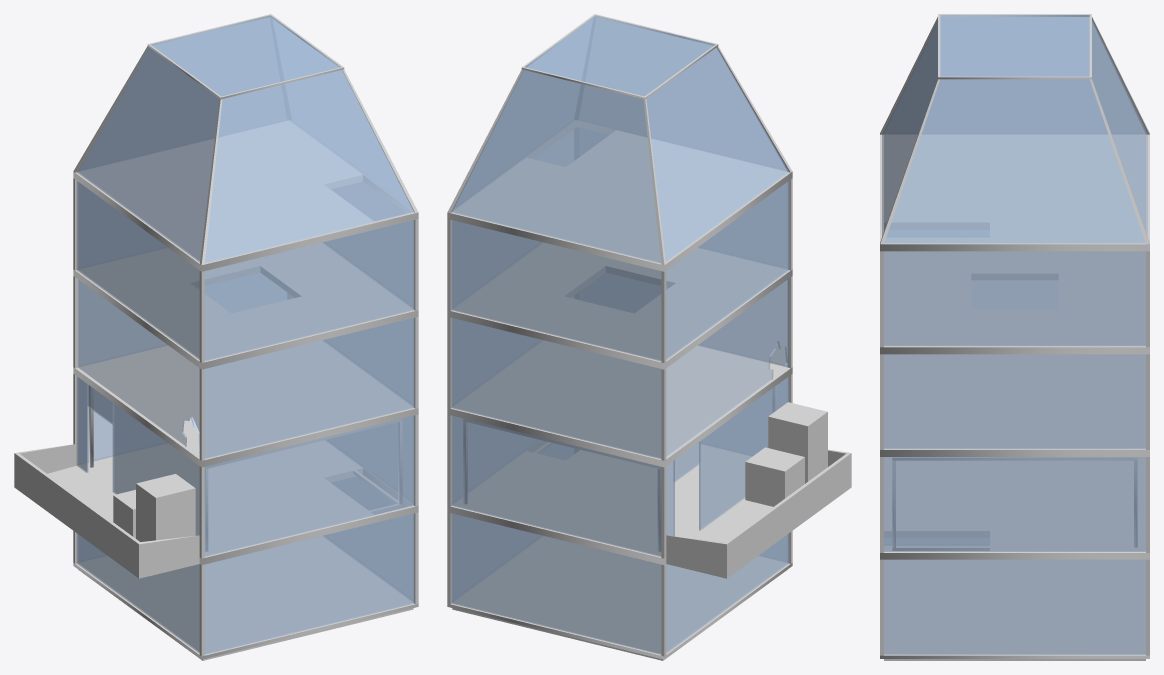
File: TestMap.fbx
The picture shows the model from 3 angles, left to right: view 1: azimuth 30°, elevation 25°; view 2: azimuth 150°, elevation 25°; view 3: azimuth 270°, elevation 25°; orthographic projection. The views are drawn at different scales.
Parts seen in each view (by area): view 1: Glass005, Glass003, Glass004, Glass002, Glass001, Box082, Box068, Box087, Box081, Box066, Box083, sddd (+8 smaller); view 2: Glass005, Glass003, Glass004, Glass002, Glass001, Box082, Box068, Box087, Box081, Box066, sddd, Box083 (+8 smaller); view 3: Glass005, Box082, Glass001, Glass004, Box087, Glass003, Glass002, Box068, Box081, Box066, sddd, box004 (+5 smaller).
Boxes of the visible parts, box(x1,y1,x2,y2) form: Glass005: box(77, 17, 414, 263); Glass003: box(78, 273, 414, 458); Glass004: box(76, 181, 414, 361); Glass002: box(76, 376, 414, 556); Glass001: box(76, 477, 414, 654); Box082: box(79, 121, 373, 262); Box068: box(79, 340, 412, 457); Box087: box(79, 536, 413, 660); Box081: box(79, 243, 412, 359); Box066: box(79, 440, 373, 555); Box083: box(14, 444, 199, 578); sddd: box(150, 15, 340, 96); Glass005: box(451, 17, 788, 263); Glass003: box(451, 273, 789, 458); Glass004: box(451, 128, 789, 361); Glass002: box(451, 376, 789, 556); Glass001: box(451, 444, 789, 654); Box082: box(453, 130, 786, 262); Box068: box(453, 340, 787, 457); Box087: box(452, 536, 786, 660); Box081: box(453, 243, 786, 359); Box066: box(453, 443, 750, 555); sddd: box(525, 15, 715, 96); Box083: box(666, 449, 851, 578); Glass005: box(882, 17, 1147, 243); Box082: box(884, 135, 1145, 242); Glass001: box(884, 538, 1145, 654); Glass004: box(884, 230, 1145, 346); Box087: box(884, 546, 1145, 660); Glass003: box(884, 354, 1145, 449); Glass002: box(884, 457, 1145, 551); Box068: box(884, 354, 1145, 447); Box081: box(884, 238, 1145, 345); Box066: box(884, 457, 1145, 550); sddd: box(940, 15, 1089, 76); box004: box(880, 14, 1149, 247).
Size of the model in its own units: 53233 by 97782 by 42600.
